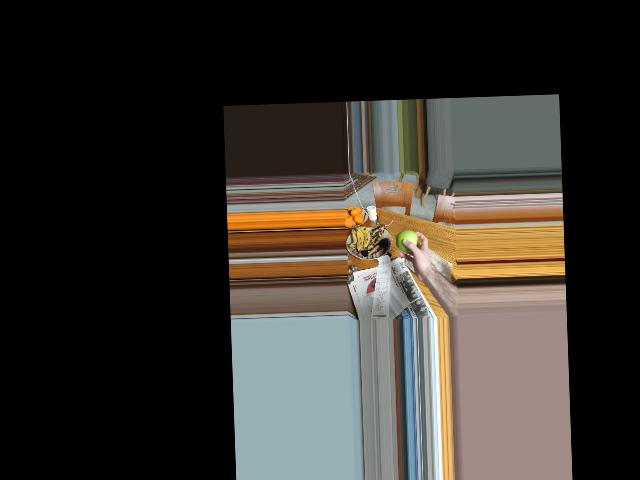apple: (395, 230, 418, 254)
